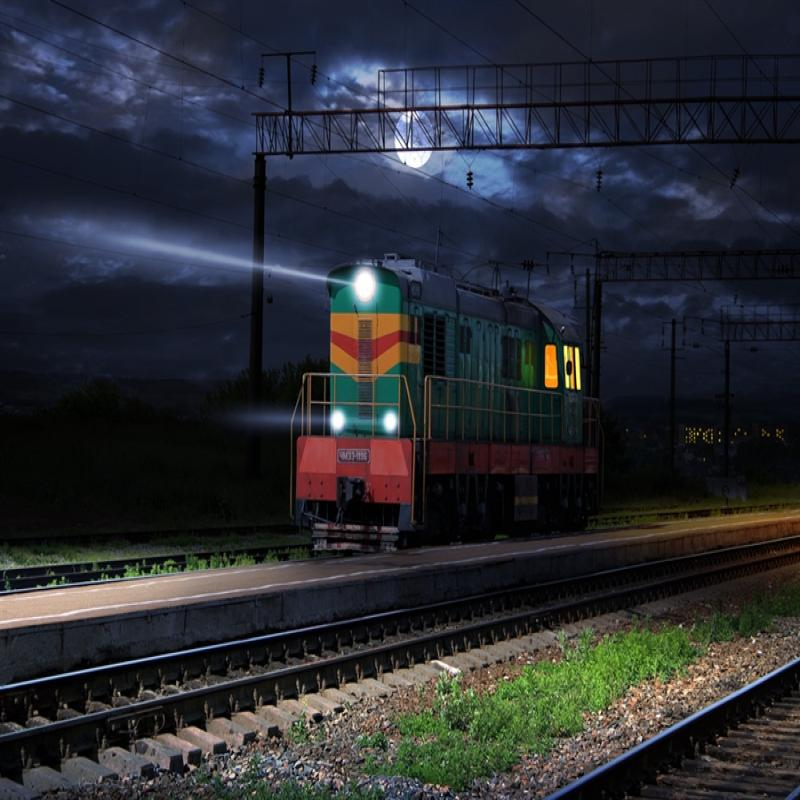train: (281, 261, 629, 570)
